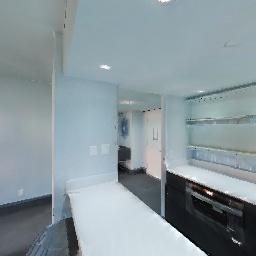door-frame: (110, 80, 170, 219)
